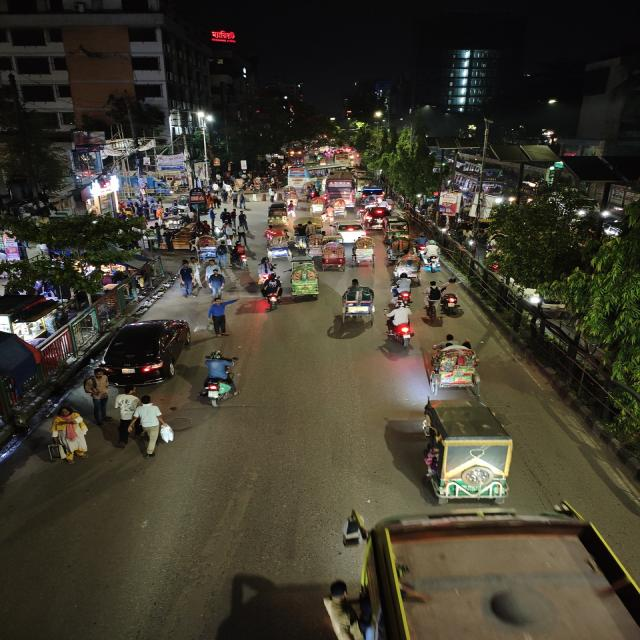bus: (324, 172, 357, 204), (286, 165, 327, 182)
car: (95, 316, 194, 388), (333, 220, 367, 241), (361, 207, 385, 231), (358, 185, 386, 205)
human_hauler: (290, 219, 324, 247)
motorcycle: (193, 350, 247, 408), (384, 305, 419, 349), (437, 278, 466, 316), (256, 275, 284, 311), (389, 270, 415, 306), (423, 280, 442, 324), (228, 238, 251, 269), (254, 256, 276, 284), (423, 252, 446, 274)
pedestrian: (130, 393, 170, 459), (47, 406, 92, 464), (110, 391, 140, 448), (82, 370, 114, 423), (204, 299, 234, 338), (177, 262, 198, 298), (205, 268, 228, 300), (234, 209, 250, 238), (228, 191, 240, 207), (239, 191, 248, 210)
rickshaw: (415, 395, 529, 509), (424, 333, 493, 393), (339, 280, 377, 326), (287, 258, 322, 302), (318, 241, 348, 273), (350, 236, 378, 270), (264, 226, 293, 258), (382, 218, 413, 241), (266, 201, 292, 225), (326, 198, 348, 220), (281, 186, 300, 205), (308, 194, 326, 214)
